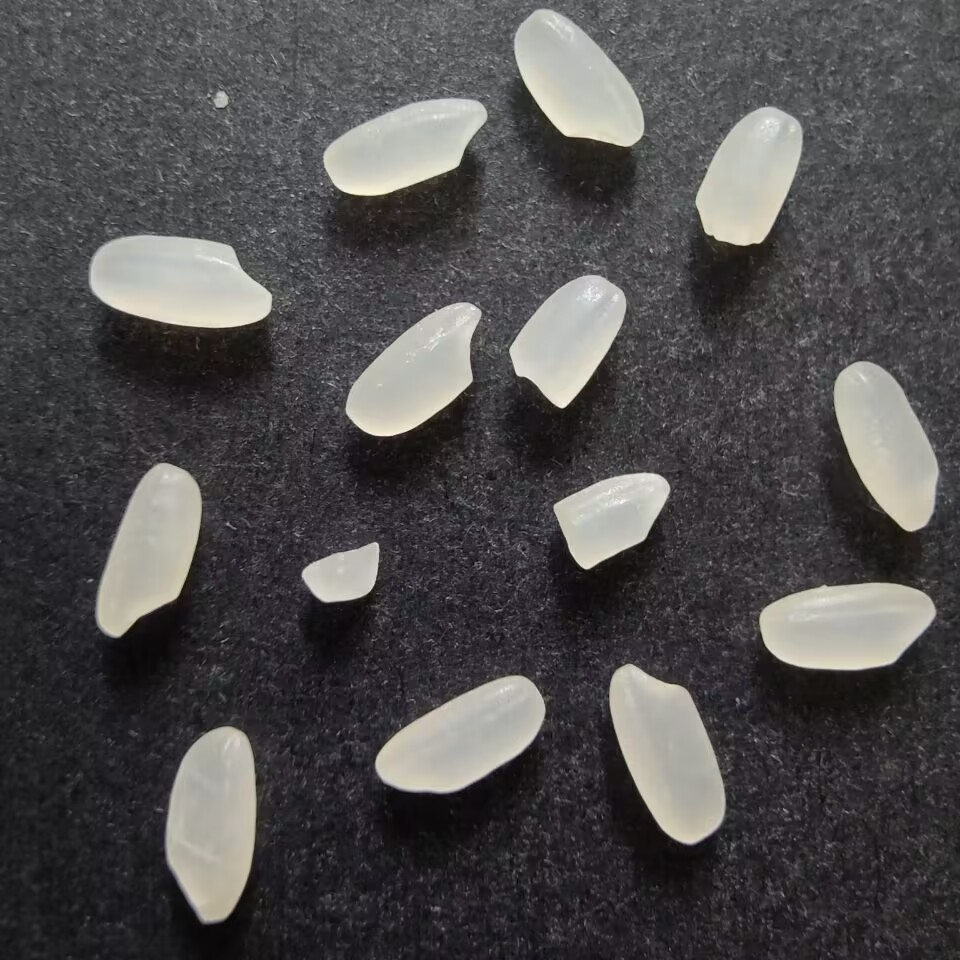broken: (503, 272, 627, 409), (690, 105, 806, 248), (548, 467, 673, 575), (296, 537, 385, 611)
rice: (606, 661, 732, 846), (368, 670, 548, 797), (159, 723, 262, 928), (340, 298, 486, 442), (95, 456, 204, 642), (83, 231, 278, 333), (832, 358, 943, 534), (509, 8, 646, 150), (322, 95, 490, 198), (757, 579, 940, 672)
